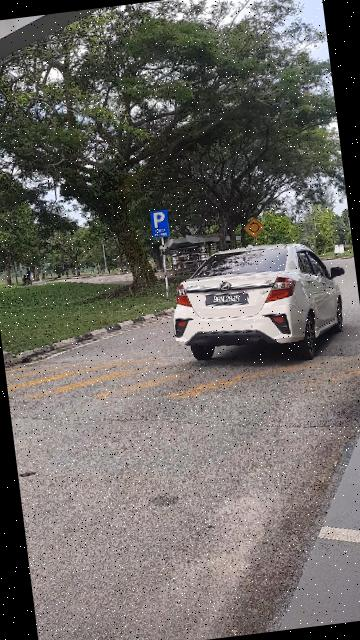License_Plate: (204, 289, 252, 311)
car: (166, 232, 356, 378)
